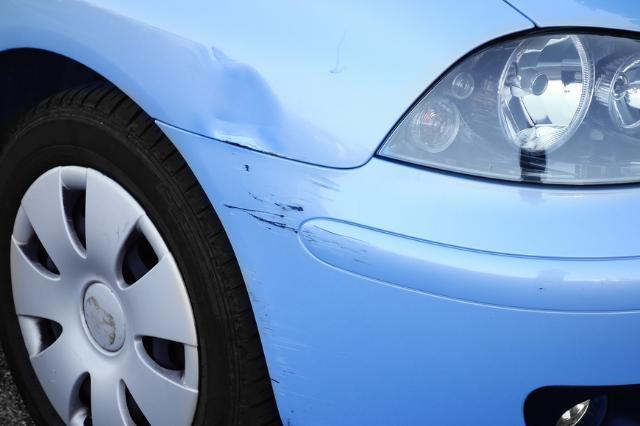Bumper: (175, 132, 595, 426)
